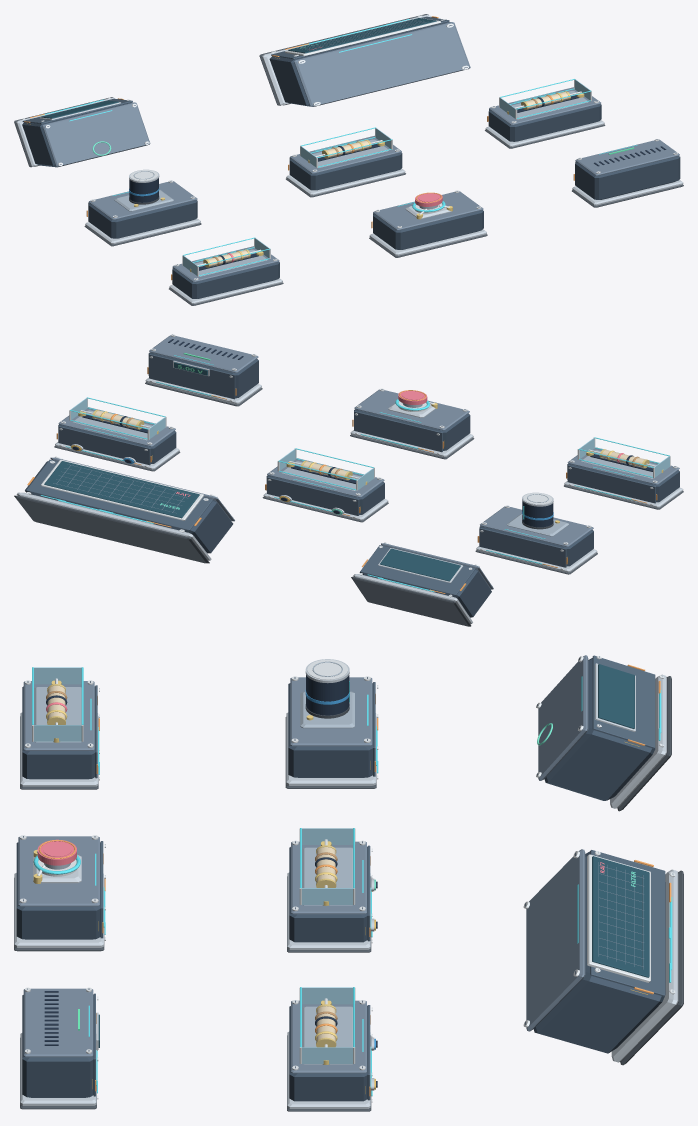
Rendered from Level38_Fitted_Assembly.fbx.
3 renders of one model, top to bottom at view 1: azimuth 30°, elevation 25°; view 2: azimuth 150°, elevation 25°; view 3: azimuth 270°, elevation 25°, orthographic. The views are drawn at different scales.
Visible parts, largest first — view 1: L38_Scope_Static__mid_steel, L38_Counter_Static__mid_steel, L38_Supply_Static__graphite, L38_Button_Static__graphite, L38_Capacitor_Static__graphite, L38_Filter_Static__graphite, L38_PullDown_Static__graphite, L38_Feed_Static__graphite, L38_Supply_Static__mid_steel, L38_Button_Static__mid_steel, L38_Scope_Static__graphite, L38_Capacitor_Static__mid_steel (+21 smaller); view 2: L38_Scope_Static__rubber, L38_Scope_Static__screen, L38_Counter_Static__rubber, L38_Scope_Static__deep_steel, L38_Supply_Static__deep_steel, L38_Supply_Static__mid_steel, L38_Button_Static__deep_steel, L38_Button_Static__mid_steel, L38_Capacitor_Static__deep_steel, L38_Counter_Static__deep_steel, L38_Scope_Static__graphite, L38_Feed_Static__deep_steel (+32 smaller); view 3: L38_Scope_Static__mid_steel, L38_Scope_Static__graphite, L38_Scope_Static__screen, L38_Counter_Static__graphite, L38_Supply_Static__mid_steel, L38_Counter_Static__mid_steel, L38_Button_Static__mid_steel, L38_Button_Static__graphite, L38_Supply_Static__graphite, L38_Capacitor_Static__mid_steel, L38_Capacitor_Static__graphite, L38_Scope_Static__deep_steel (+28 smaller).
Boxes of the visible parts, x1=… form: L38_Scope_Static__mid_steel: x1=294, y1=15, x2=470, y2=106; L38_Counter_Static__mid_steel: x1=42, y1=97, x2=150, y2=166; L38_Supply_Static__graphite: x1=575, y1=156, x2=680, y2=199; L38_Button_Static__graphite: x1=373, y1=210, x2=483, y2=249; L38_Capacitor_Static__graphite: x1=88, y1=200, x2=197, y2=238; L38_Filter_Static__graphite: x1=289, y1=152, x2=402, y2=190; L38_PullDown_Static__graphite: x1=488, y1=104, x2=601, y2=141; L38_Feed_Static__graphite: x1=172, y1=262, x2=279, y2=298; L38_Supply_Static__mid_steel: x1=575, y1=139, x2=679, y2=175; L38_Button_Static__mid_steel: x1=373, y1=191, x2=483, y2=230; L38_Scope_Static__graphite: x1=269, y1=21, x2=450, y2=106; L38_Capacitor_Static__mid_steel: x1=89, y1=181, x2=197, y2=219; L38_Scope_Static__rubber: x1=14, y1=495, x2=209, y2=563; L38_Scope_Static__screen: x1=44, y1=461, x2=199, y2=518; L38_Counter_Static__rubber: x1=351, y1=576, x2=471, y2=626; L38_Scope_Static__deep_steel: x1=26, y1=459, x2=212, y2=530; L38_Supply_Static__deep_steel: x1=149, y1=354, x2=235, y2=399; L38_Supply_Static__mid_steel: x1=149, y1=335, x2=258, y2=401; L38_Button_Static__deep_steel: x1=354, y1=411, x2=442, y2=452; L38_Button_Static__mid_steel: x1=354, y1=389, x2=469, y2=454; L38_Capacitor_Static__deep_steel: x1=479, y1=528, x2=566, y2=567; L38_Counter_Static__deep_steel: x1=360, y1=545, x2=475, y2=595; L38_Scope_Static__graphite: x1=25, y1=461, x2=233, y2=553; L38_Feed_Static__deep_steel: x1=567, y1=465, x2=655, y2=503; L38_Scope_Static__mid_steel: x1=526, y1=849, x2=673, y2=1031; L38_Scope_Static__graphite: x1=533, y1=851, x2=665, y2=1053; L38_Scope_Static__screen: x1=592, y1=856, x2=649, y2=977; L38_Counter_Static__graphite: x1=544, y1=658, x2=655, y2=800; L38_Supply_Static__mid_steel: x1=23, y1=988, x2=93, y2=1057; L38_Counter_Static__mid_steel: x1=538, y1=655, x2=662, y2=780; L38_Button_Static__mid_steel: x1=18, y1=836, x2=99, y2=906; L38_Button_Static__graphite: x1=16, y1=842, x2=100, y2=939; L38_Supply_Static__graphite: x1=22, y1=995, x2=93, y2=1097; L38_Capacitor_Static__mid_steel: x1=290, y1=677, x2=372, y2=746; L38_Capacitor_Static__graphite: x1=288, y1=683, x2=372, y2=777; L38_Scope_Static__deep_steel: x1=590, y1=850, x2=665, y2=996.
Bounding box in the file's own units: 164 × 17.66 × 117.
